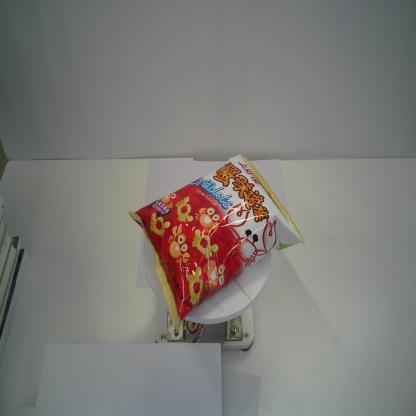Puffed Food: (125, 150, 306, 330)
